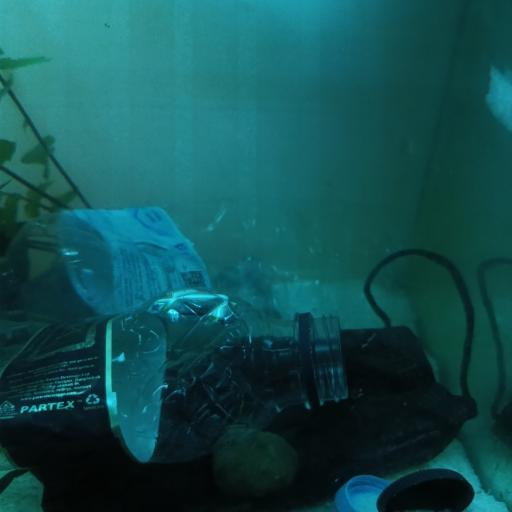bottle_cap: (376, 467, 474, 512), (335, 475, 388, 512)
mask: (51, 235, 480, 512)
plastic_bottle: (0, 292, 347, 464), (0, 204, 397, 319)
